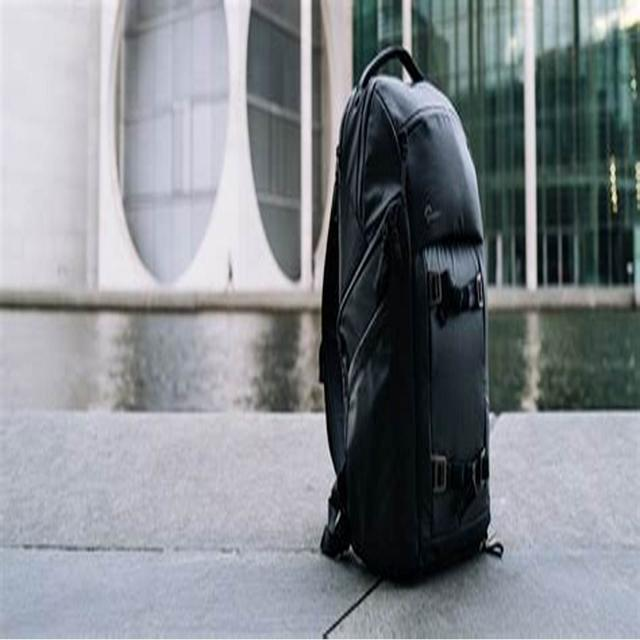Backpacks: (316, 39, 508, 568)
